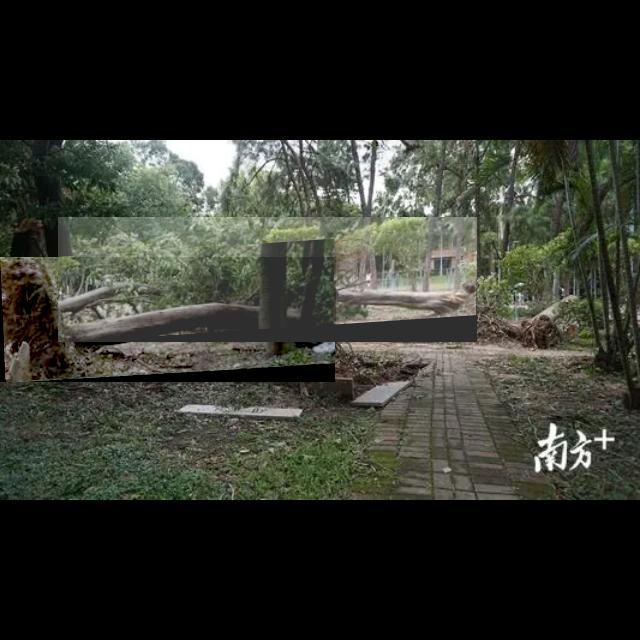fallen_tree: (58, 217, 478, 343), (0, 257, 336, 383)
